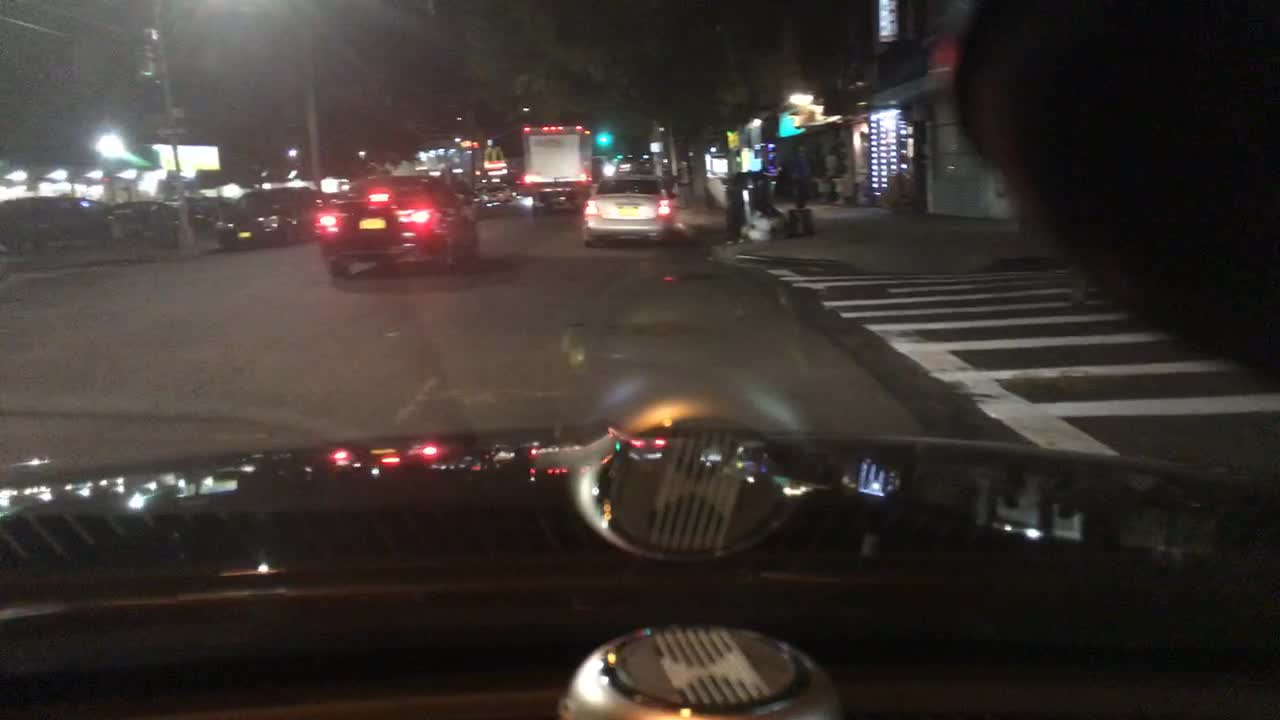car: (317, 172, 478, 277), (0, 193, 113, 257), (577, 179, 676, 251), (218, 185, 317, 251), (107, 197, 182, 248), (185, 194, 237, 235), (444, 175, 483, 215), (478, 178, 516, 211), (613, 158, 662, 179), (588, 152, 616, 181), (499, 172, 519, 185)
person: (784, 140, 817, 208), (761, 152, 782, 199)
traffic light: (595, 131, 610, 146), (468, 137, 481, 152)
traffic sign: (152, 125, 189, 139), (724, 127, 740, 148), (648, 140, 662, 152)
truck: (517, 124, 600, 214)
